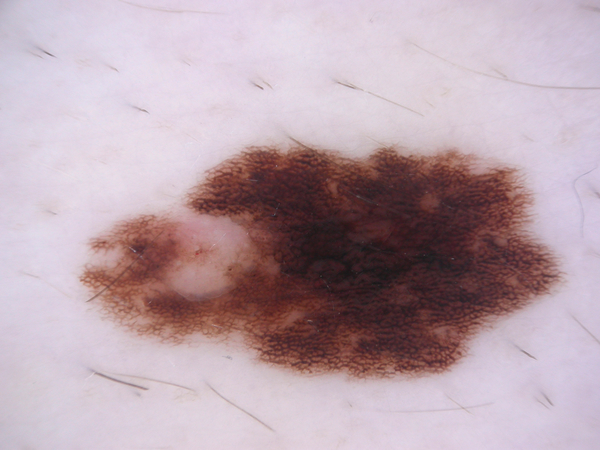Detected Lesion: (79, 127, 569, 386)
